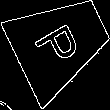P_NE: (33, 14, 89, 71)
